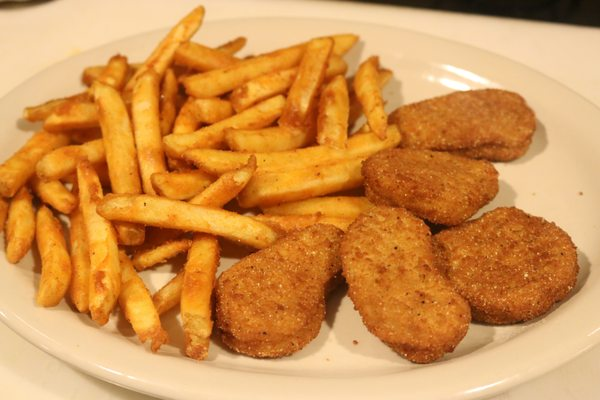curry: (2, 1, 598, 384)
salad: (435, 205, 580, 325)
